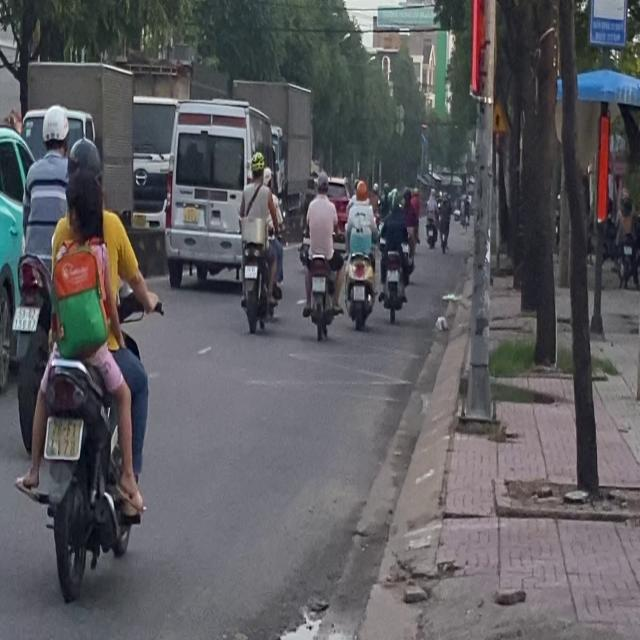helmet: (67, 136, 104, 192), (40, 102, 70, 153)
licenseplate: (23, 133, 164, 619), (9, 101, 72, 409)
motorcyclist: (65, 169, 105, 238)
nohelmet: (44, 417, 81, 458), (13, 304, 39, 328)
